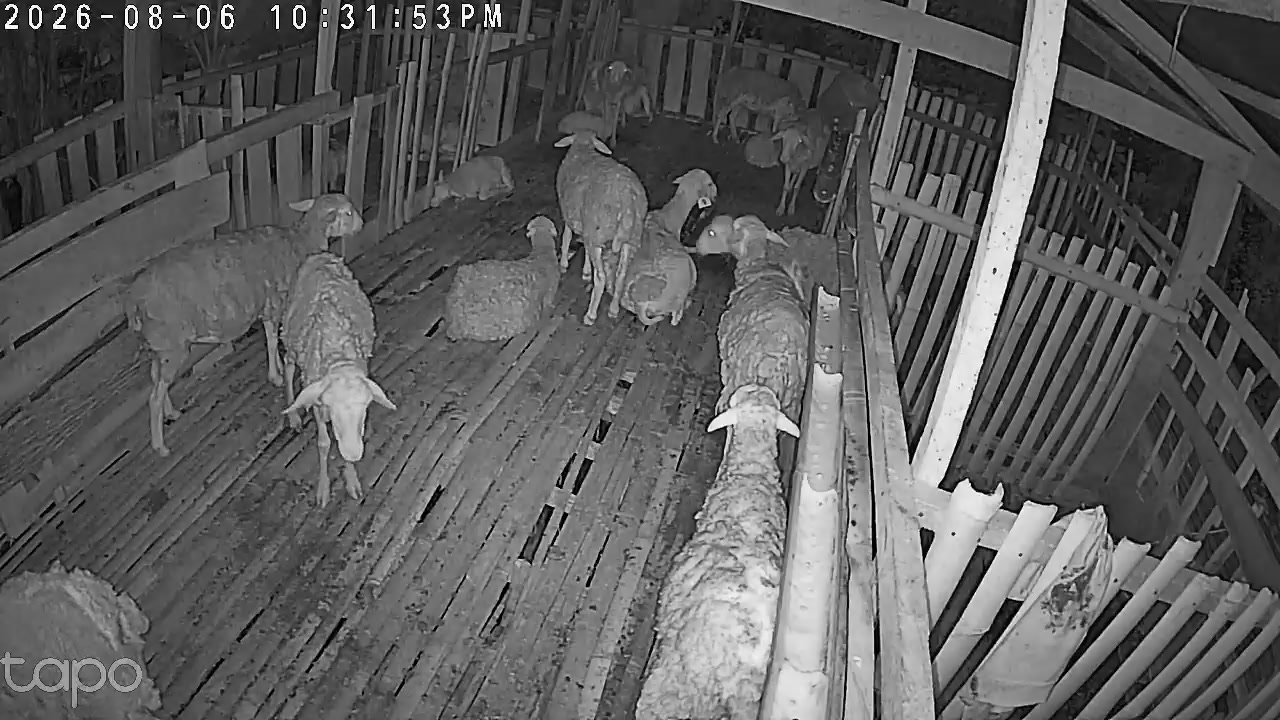sheep: (120, 190, 365, 470), (640, 385, 800, 720), (281, 254, 396, 499), (0, 560, 160, 710), (555, 125, 650, 325), (721, 140, 816, 340), (615, 165, 710, 330), (445, 215, 565, 340), (599, 66, 694, 146), (710, 65, 810, 140), (430, 150, 515, 200)
